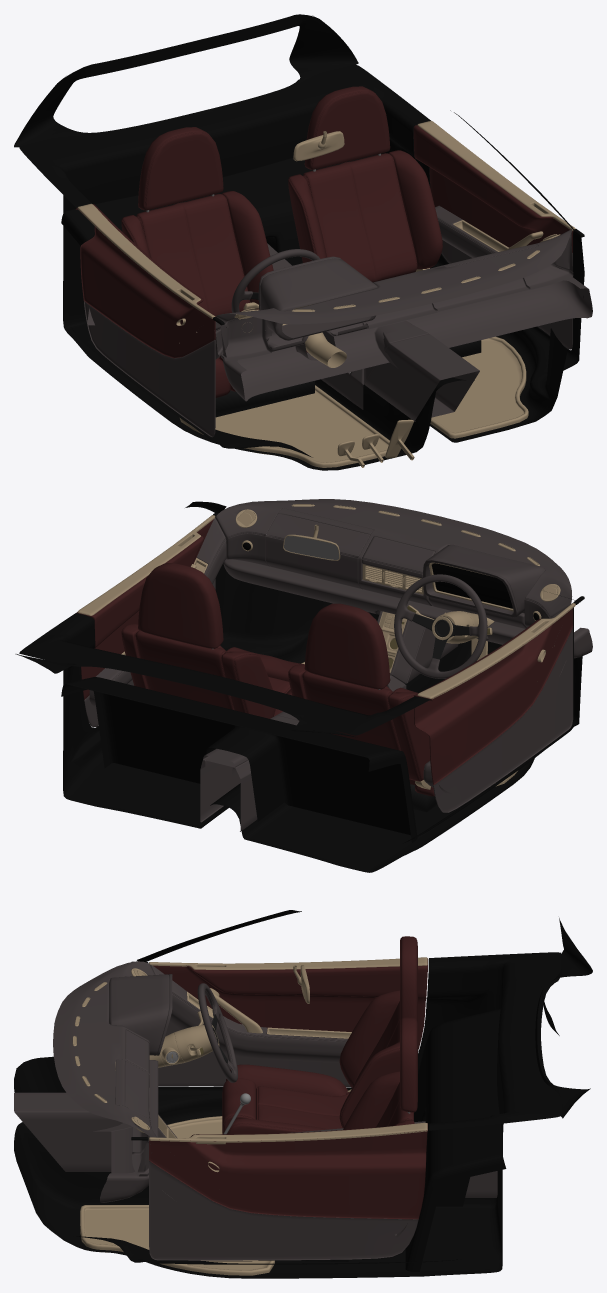
The model's file is Ferrarri_interior01.fbx.
The picture shows the model from 3 angles, top to bottom: view 1: azimuth 30°, elevation 25°; view 2: azimuth 150°, elevation 25°; view 3: azimuth 270°, elevation 25°; orthographic projection.
Parts seen in each view (by area): view 1: habitacle, int_red01, int_brown03, gum10, int_red02, int_brown05, int_brown02, int_brown04, black_m04, gum08, int_brown01, retroviseurIN (+1 smaller); view 2: habitacle, int_red01, int_brown03, int_red02, int_brown05, int_brown02, gum10, int_brown04, int_brown01, glass04, gum21, gum19 (+3 smaller); view 3: habitacle, int_red02, int_brown05, int_red01, int_brown03, gum10, int_brown02, int_brown04, int_brown01, gum19, gum12.
Part boxes in pixels (x1,y1,x2,y2): habitacle: [14, 14, 584, 470]; int_red01: [121, 86, 442, 397]; int_brown03: [216, 229, 592, 401]; gum10: [77, 120, 575, 467]; int_red02: [75, 125, 573, 358]; int_brown05: [84, 205, 572, 437]; int_brown02: [267, 243, 479, 421]; int_brown04: [258, 256, 377, 340]; black_m04: [215, 340, 481, 417]; gum08: [337, 419, 414, 467]; int_brown01: [231, 249, 320, 312]; retroviseurIN: [293, 131, 344, 161]; habitacle: [15, 501, 584, 872]; int_red01: [121, 563, 434, 796]; int_brown03: [216, 499, 592, 658]; int_red02: [76, 519, 573, 784]; int_brown05: [84, 518, 573, 812]; int_brown02: [200, 611, 458, 831]; gum10: [77, 515, 575, 786]; int_brown04: [423, 544, 544, 617]; int_brown01: [394, 574, 487, 678]; glass04: [432, 563, 512, 608]; gum21: [235, 509, 560, 620]; gum19: [432, 611, 494, 643]; habitacle: [14, 910, 592, 1278]; int_red02: [149, 958, 427, 1219]; int_brown05: [147, 965, 418, 1260]; int_red01: [222, 936, 417, 1134]; int_brown03: [53, 961, 158, 1202]; gum10: [80, 957, 427, 1275]; int_brown02: [14, 1092, 497, 1197]; int_brown04: [109, 974, 172, 1055]; int_brown01: [197, 983, 237, 1082]; gum19: [115, 1025, 219, 1070]; gum12: [187, 991, 351, 1038].
Size of the model in its own units: 457 by 292 by 627.
